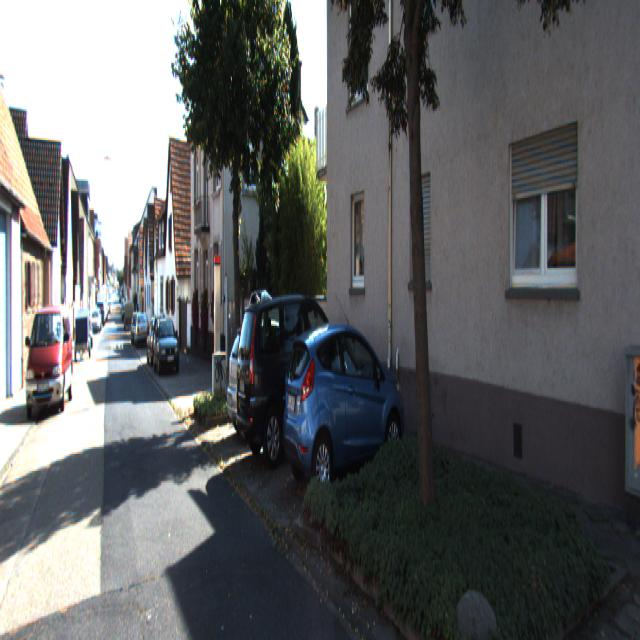Car: (227, 288, 358, 475), (278, 315, 408, 500), (224, 320, 323, 444), (152, 318, 180, 376)
DontCare: (76, 270, 148, 366)
Van: (23, 308, 74, 420)
